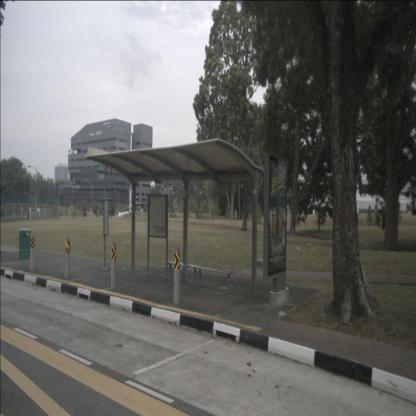human-pedestrian-adult: (69, 204, 71, 216)
